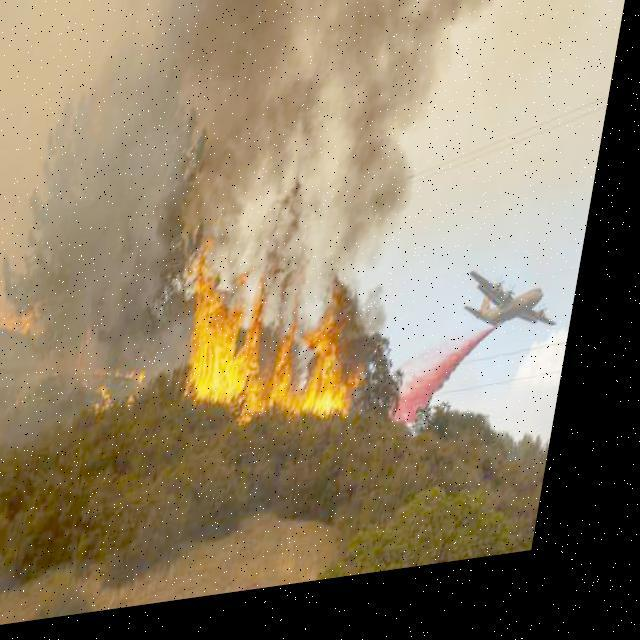Fire: (174, 222, 434, 456)
